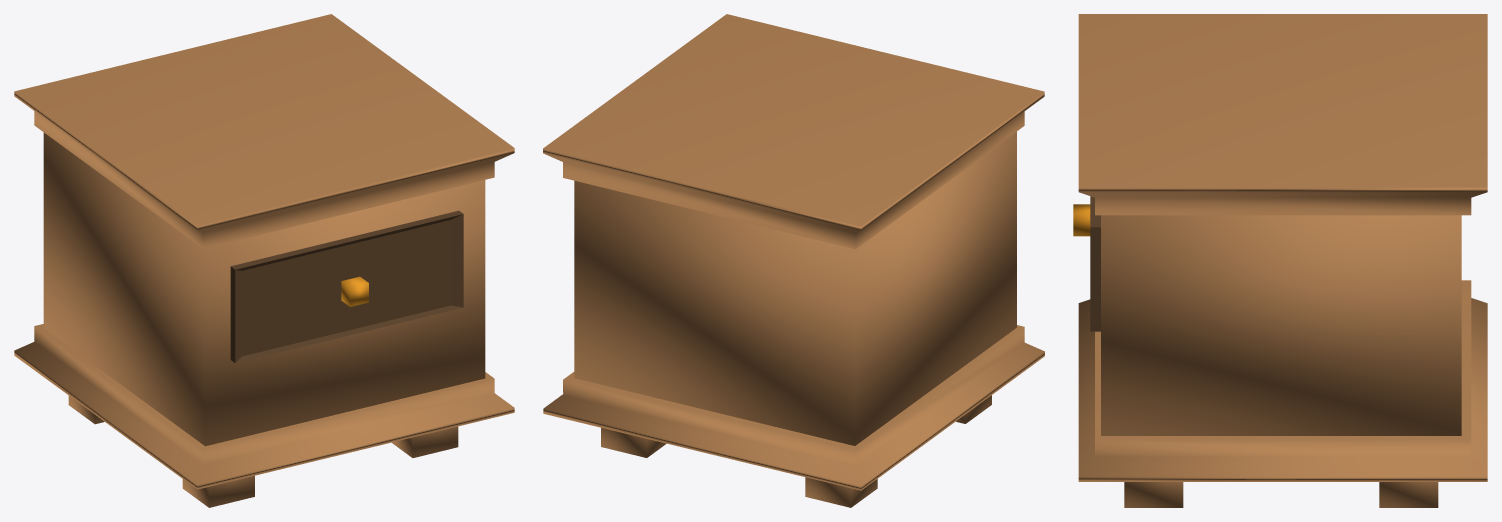
File: cabinet.glb
3 renders of one model, left to right at view 1: azimuth 30°, elevation 25°; view 2: azimuth 150°, elevation 25°; view 3: azimuth 270°, elevation 25°, orthographic. The views are drawn at different scales.
Parts seen in each view (by area): view 1: Cube.001, Cube, Cube.007, Cube.002, Cube.003, Cube.004, Cube.008; view 2: Cube, Cube.001, Cube.002, Cube.006, Cube.005; view 3: Cube.001, Cube, Cube.002, Cube.004, Cube.005, Cube.007, Cube.008.
Boxes of the visible parts, x1,y1,x2,y2 form: Cube.001: (14, 14, 514, 248); Cube: (43, 132, 485, 446); Cube.007: (230, 210, 463, 363); Cube.002: (14, 324, 514, 489); Cube.003: (182, 475, 254, 507); Cube.004: (392, 426, 458, 457); Cube.008: (341, 276, 368, 306); Cube: (574, 131, 1016, 445); Cube.001: (543, 14, 1044, 249); Cube.002: (543, 325, 1044, 490); Cube.006: (805, 477, 877, 507); Cube.005: (601, 428, 666, 457); Cube.001: (1078, 14, 1487, 215); Cube: (1101, 215, 1461, 435); Cube.002: (1078, 280, 1487, 481); Cube.004: (1124, 482, 1183, 507); Cube.005: (1379, 482, 1438, 507); Cube.007: (1090, 196, 1100, 331); Cube.008: (1073, 204, 1090, 236).
Size of the model in its own units: 1.23 by 1.13 by 1.25.
